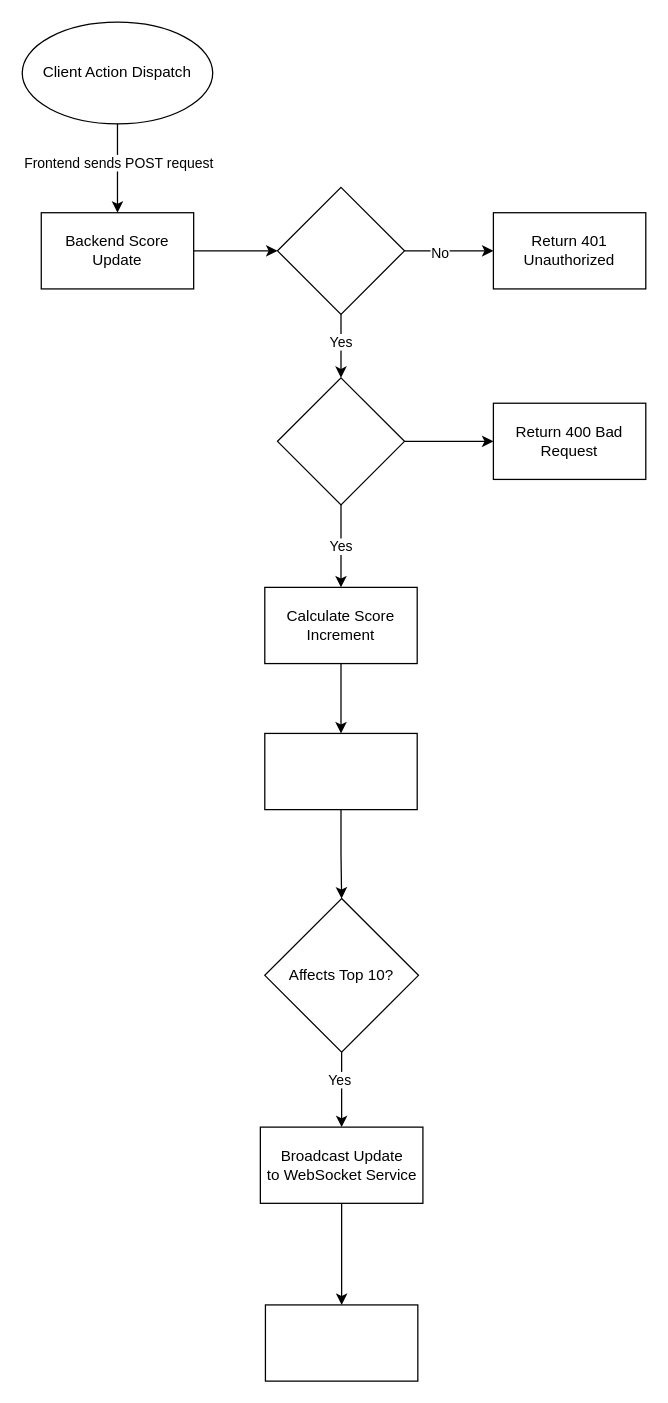
Image size: 668x1403. Some labels were removed from this diagram. The box of each missing label's shape, as (x1, y1, x2, y2) in pixels:
Connected Clients (Scoreboard View): (264, 1304, 418, 1381)
Is JWT valid?: (276, 186, 404, 314)
Update Database: (264, 732, 417, 810)
Valid payload?: (276, 377, 404, 505)
